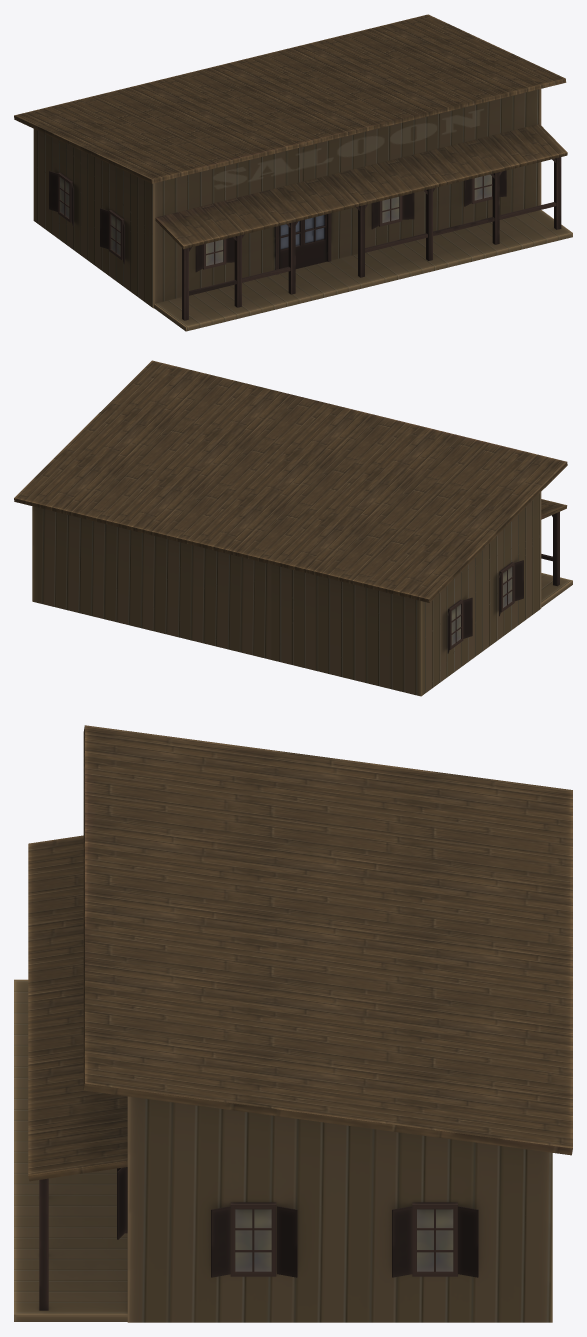
File: SaloonInterior.fbx
3 views of the same model, one above another, from view 1: azimuth 30°, elevation 25°; view 2: azimuth 150°, elevation 25°; view 3: azimuth 270°, elevation 25° (orthographic). The views are drawn at different scales.
Parts seen in each view (by area): view 1: Building_3; view 2: Building_3; view 3: Building_3.
Boxes of the visible parts, <box> form: Building_3: <box>14,14,572,331</box>; Building_3: <box>14,360,572,696</box>; Building_3: <box>14,725,572,1322</box>.
Bounding box in the file's own units: 434 × 141 × 286.
